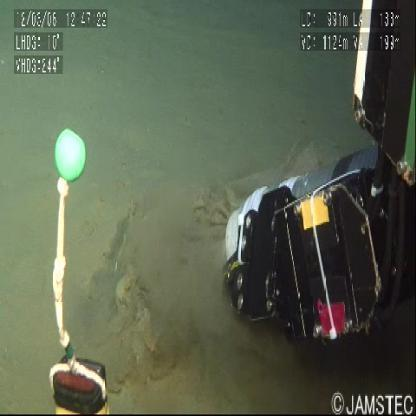Rác: (101, 139, 338, 383)
